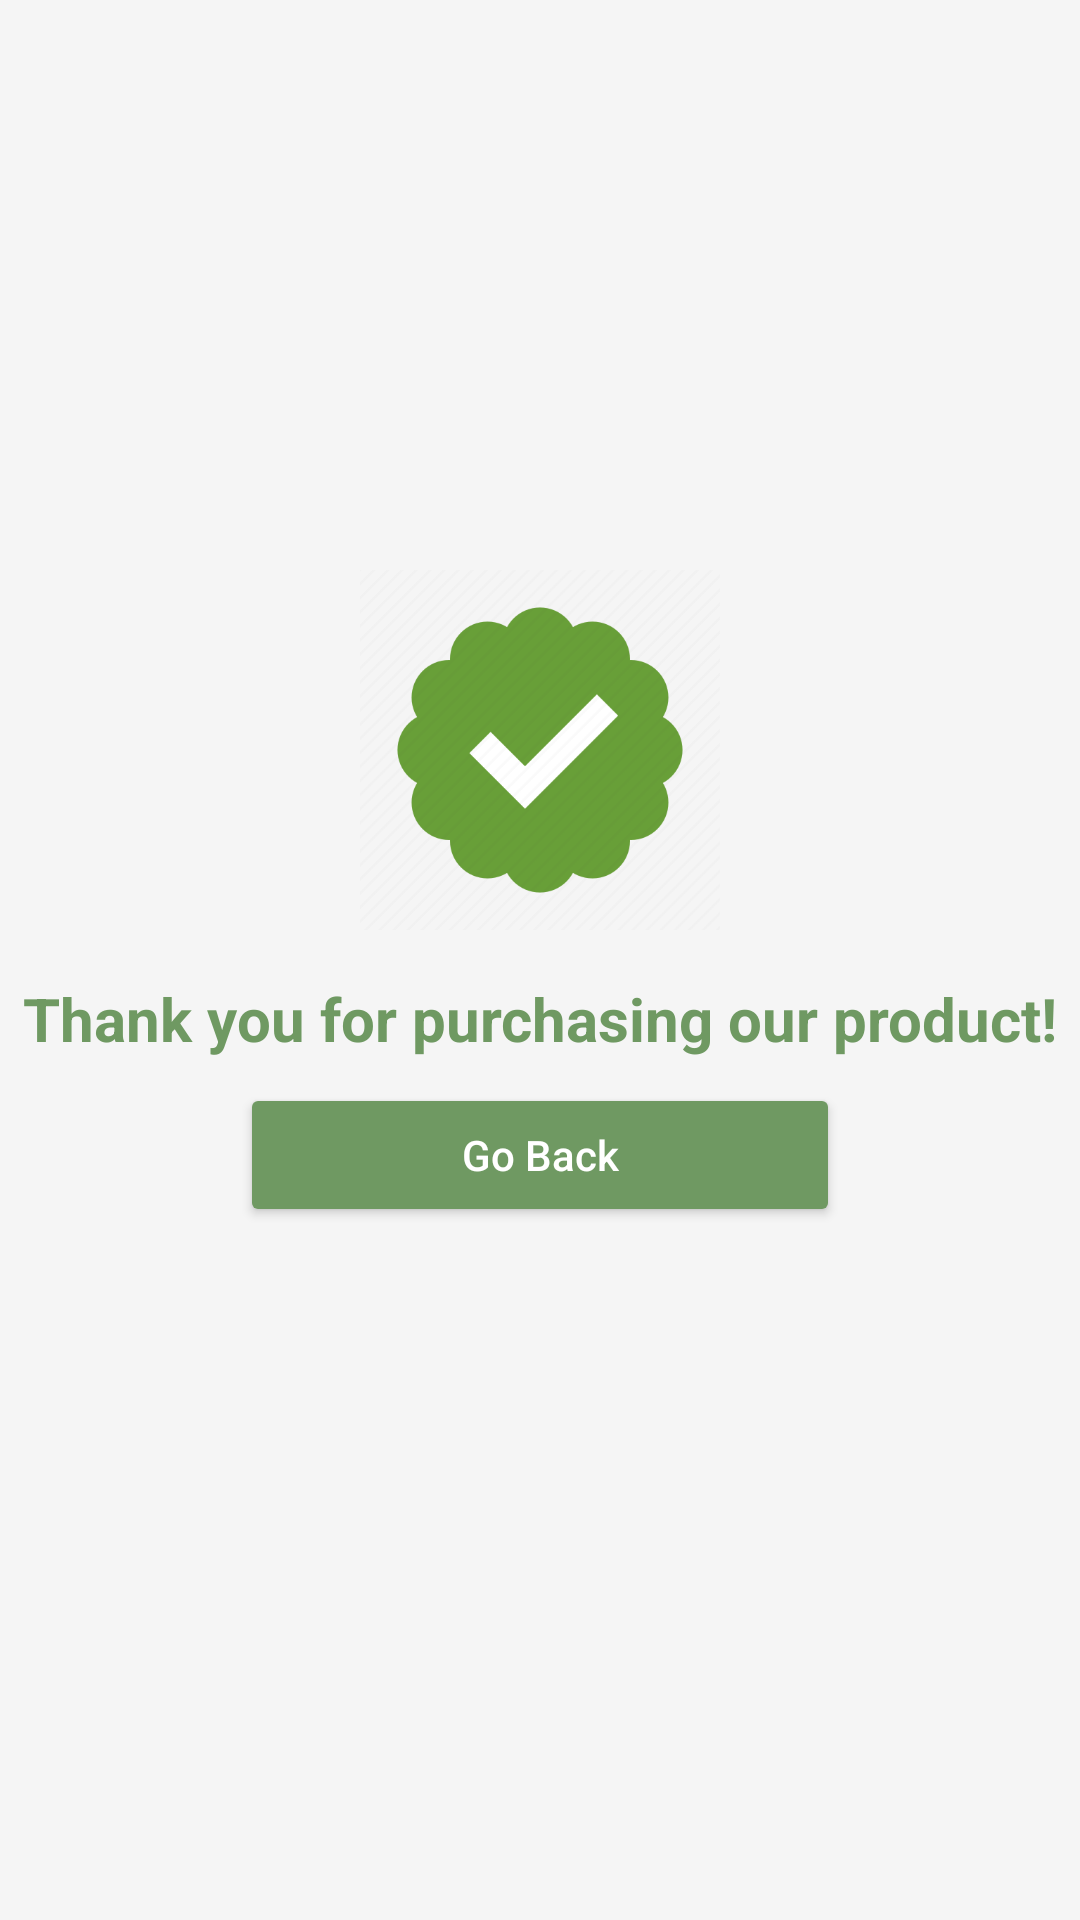

Named icons in this screenshot (1080 x 1920) and their centers, (x=x, y=y):
approved: (x=540, y=750)
